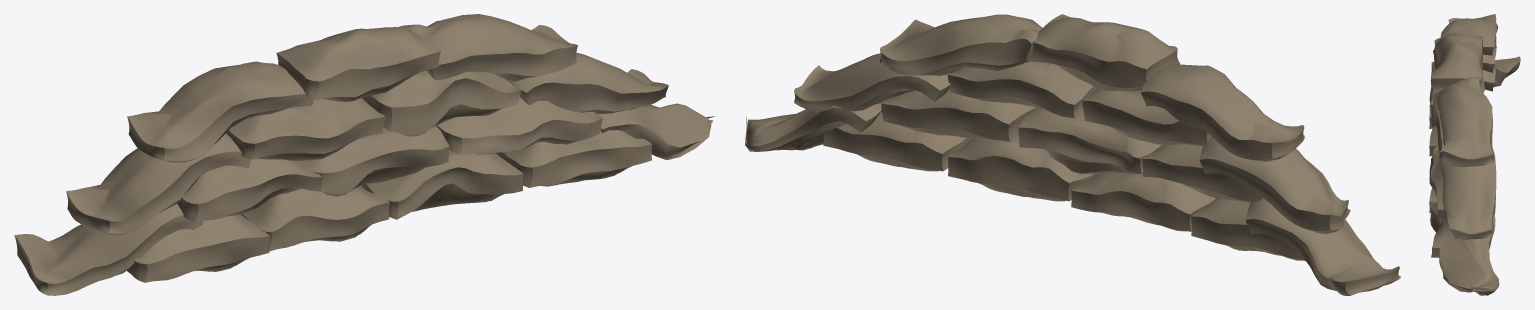
File: sandbag wall 1.fbx
3 views of the same model, side by side, from view 1: azimuth 30°, elevation 25°; view 2: azimuth 150°, elevation 25°; view 3: azimuth 270°, elevation 25° (orthographic). The views are drawn at different scales.
Parts seen in each view (by area): view 1: polySurface13; view 2: polySurface13; view 3: polySurface13.
Boxes of the visible parts, x1=… form: polySurface13: x1=14, y1=14, x2=714, y2=295; polySurface13: x1=745, y1=14, x2=1400, y2=295; polySurface13: x1=1429, y1=14, x2=1520, y2=295.
Size of the model in its own units: 470 by 132 by 80.45.
